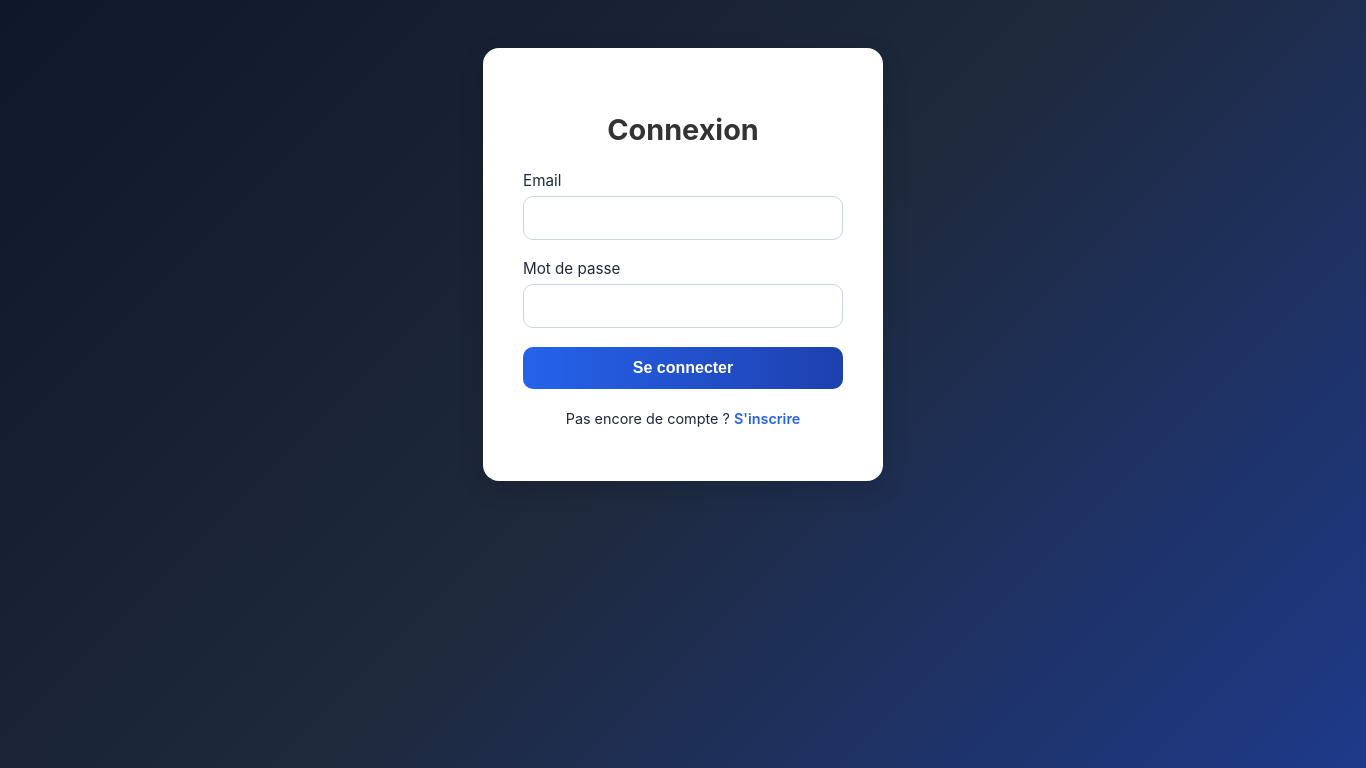
Test: Login Component › affiche un message d'erreur si l'API rejette les identifiants
In the field labelled "Email": (683, 218) [523,196,843,240], type "bad@test.com"
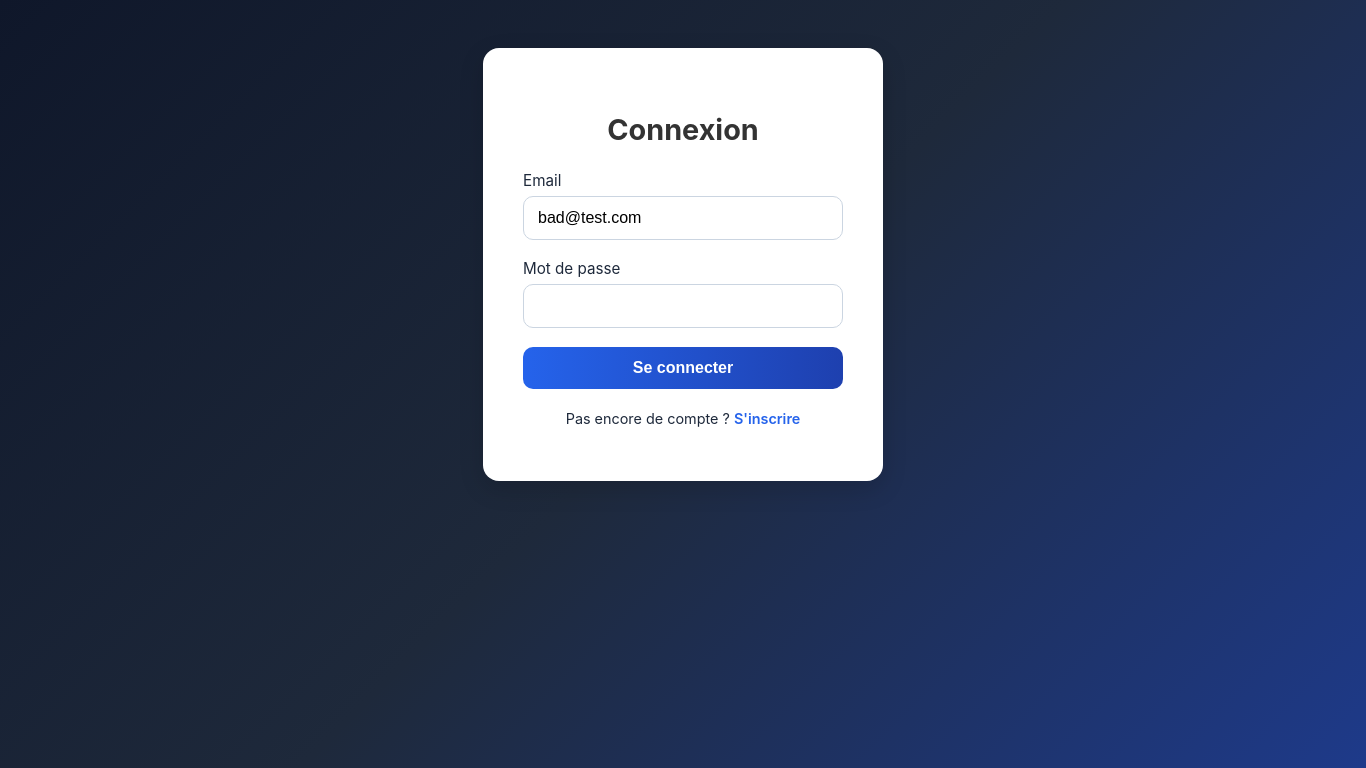
In the password field labelled "Mot de passe": (683, 306) [523,284,843,328], type "wrongpass"
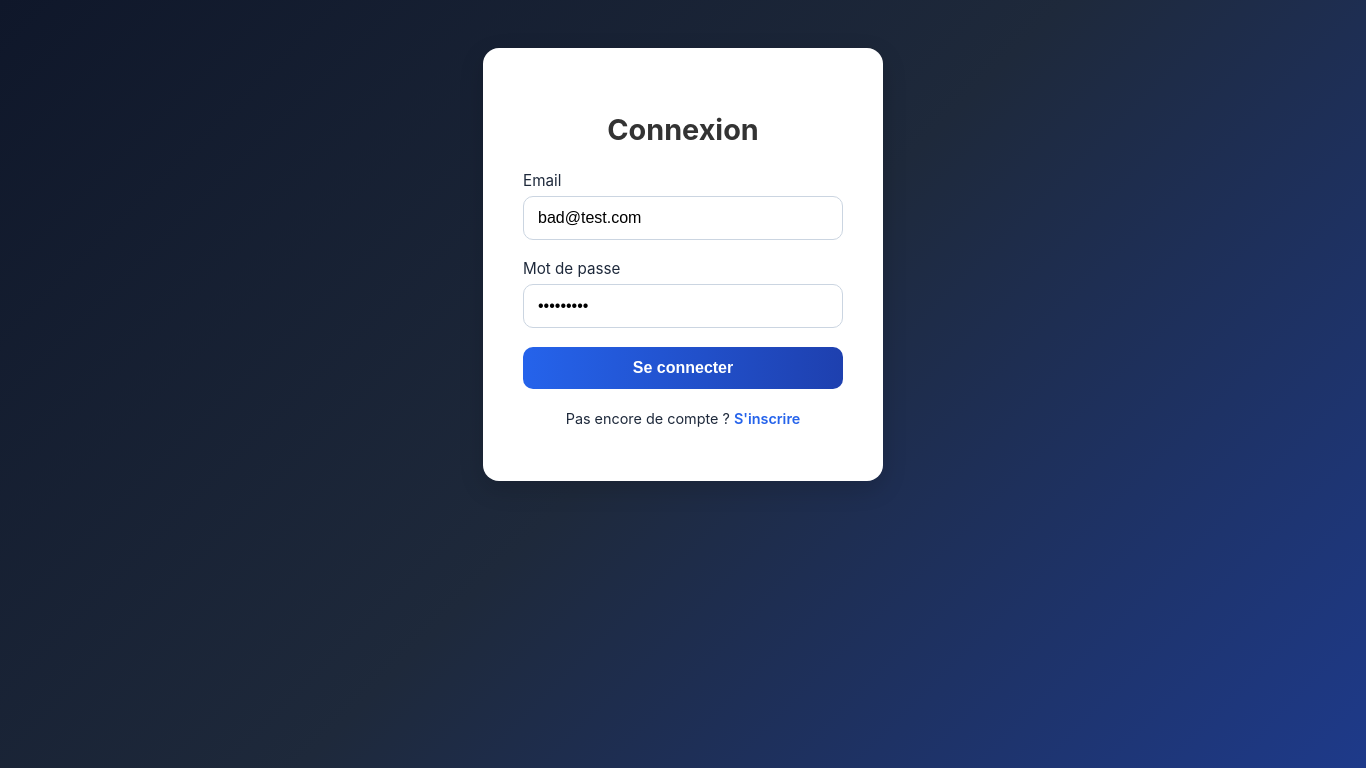
Click the button "Se connecter": (683, 368) [523,347,843,389]
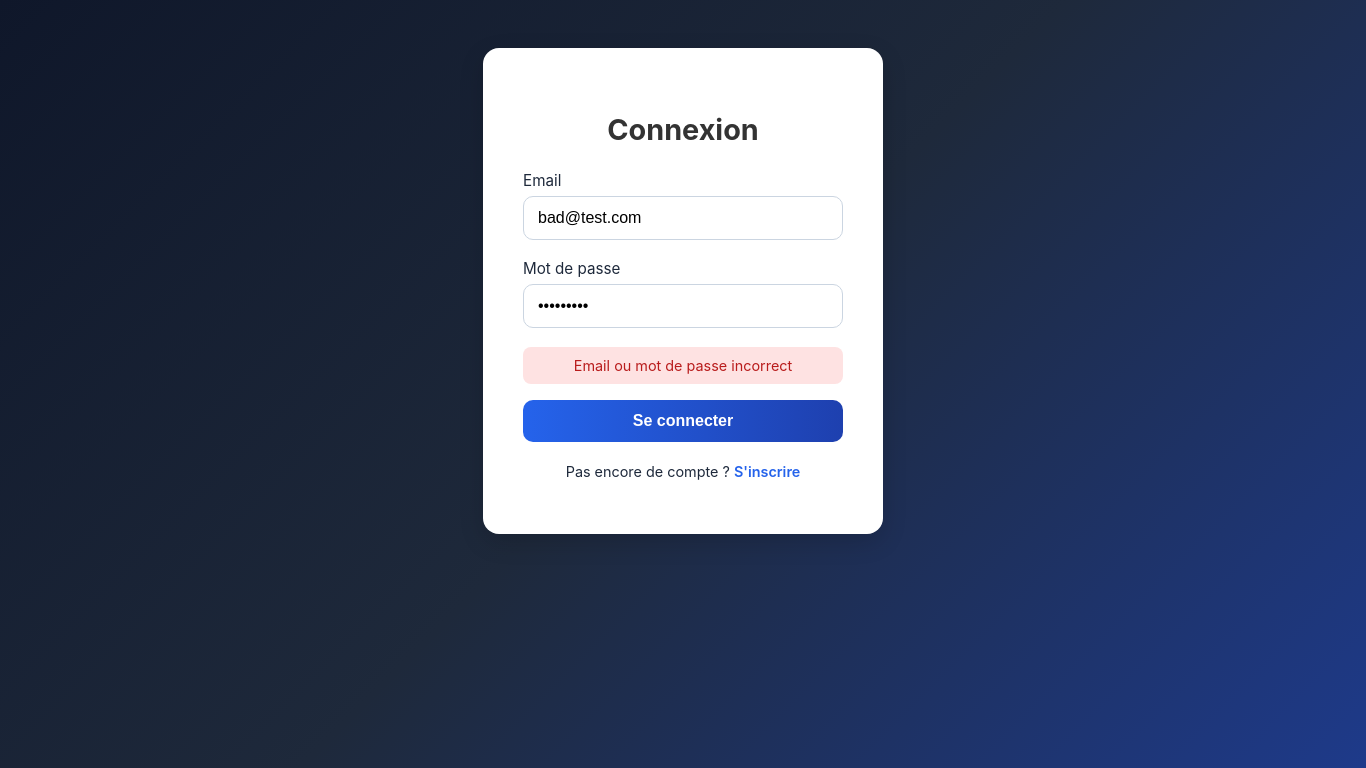
expect the text "Email ou mot de passe incorrect" is shown: met, box [523,347,843,384]
